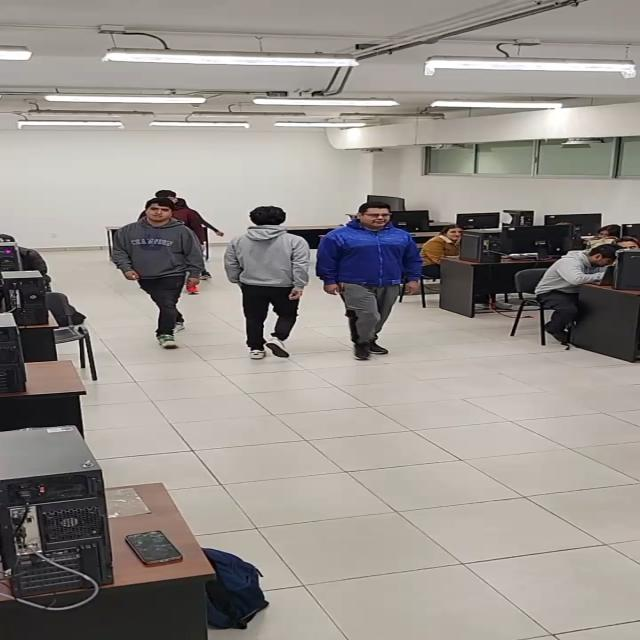Persona: (318, 200, 418, 363), (111, 197, 205, 351), (220, 202, 311, 361)
